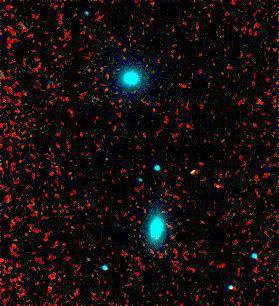star: (175, 157, 205, 187)
